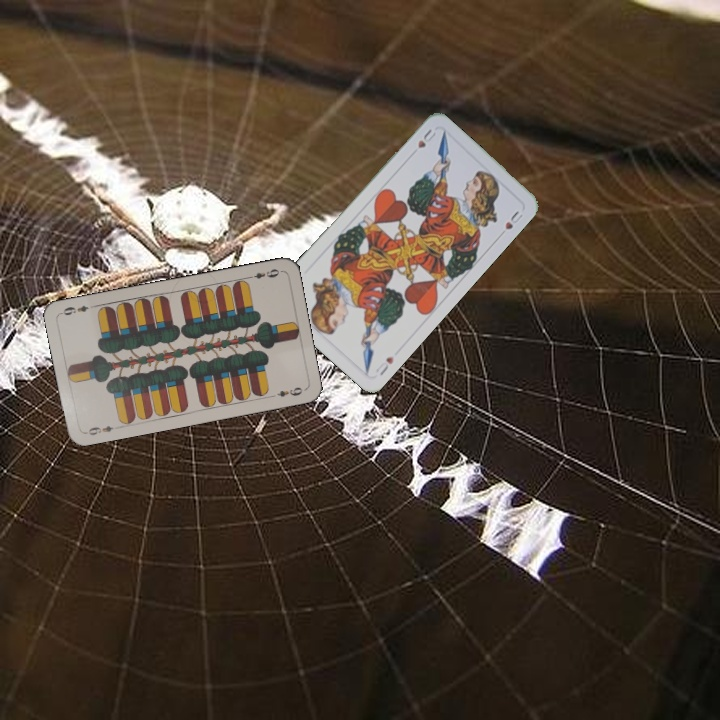E9: (243, 265, 282, 282), (81, 422, 121, 438)
HU: (413, 125, 439, 151), (372, 352, 396, 378)
